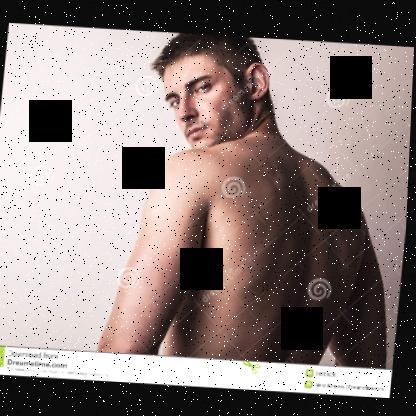Male: (153, 53, 271, 153)
